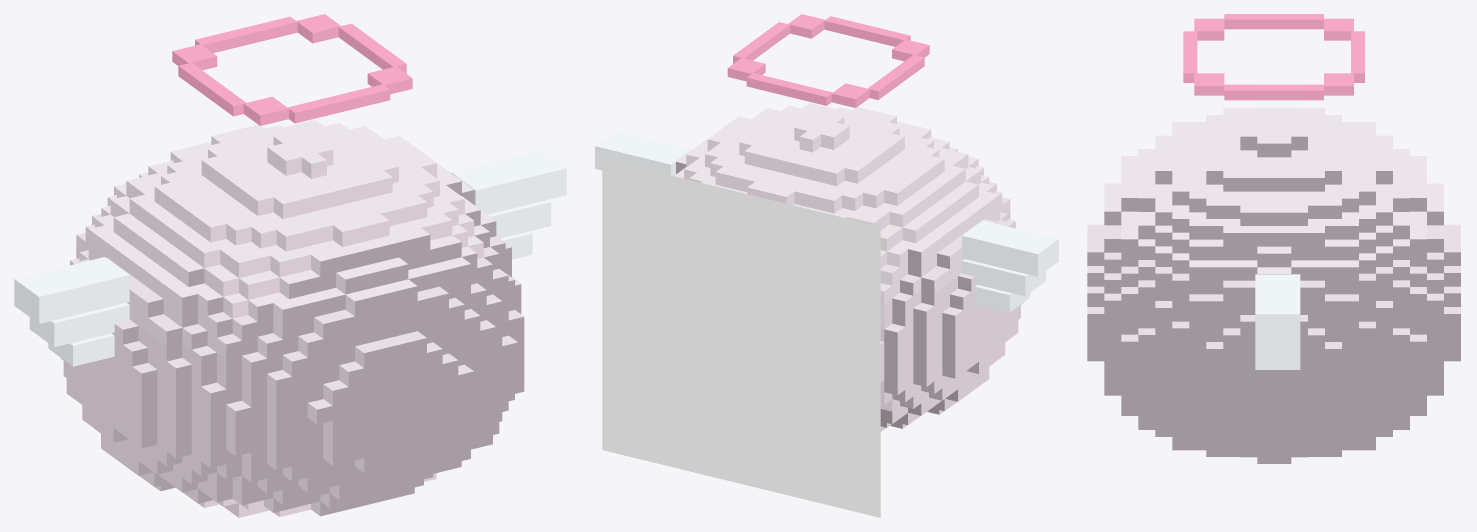
The model's file is slime_lumen_large.glb.
The picture shows the model from 3 angles, left to right: view 1: azimuth 30°, elevation 25°; view 2: azimuth 150°, elevation 25°; view 3: azimuth 270°, elevation 25°; orthographic projection. The views are drawn at different scales.
Visible parts, largest first — view 1: Shell, ElementDetails; view 2: Face, Shell, ElementDetails; view 3: Shell, ElementDetails.
Part boxes in pixels (x1,y1,x2,y2): Shell: (60, 120, 524, 517); ElementDetails: (14, 14, 566, 366); Face: (602, 159, 880, 517); Shell: (674, 103, 1023, 431); ElementDetails: (595, 14, 1058, 312); Shell: (1087, 108, 1460, 463); ElementDetails: (1183, 14, 1364, 369).
Bounding box in the file's own units: 2.69 × 2.11 × 1.83.
